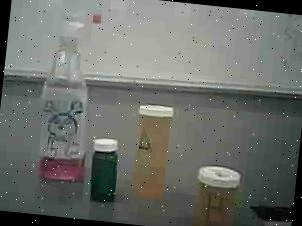Bottle A: (127, 101, 182, 202)
Bottle B: (188, 159, 245, 226)
Bottle C: (87, 134, 123, 207)
hazard: (32, 4, 106, 190)
